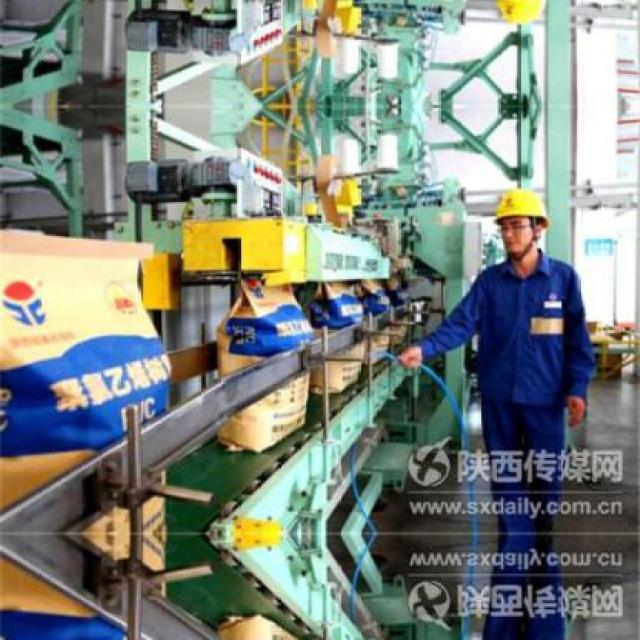helmet: (485, 178, 552, 262), (484, 0, 553, 35)
